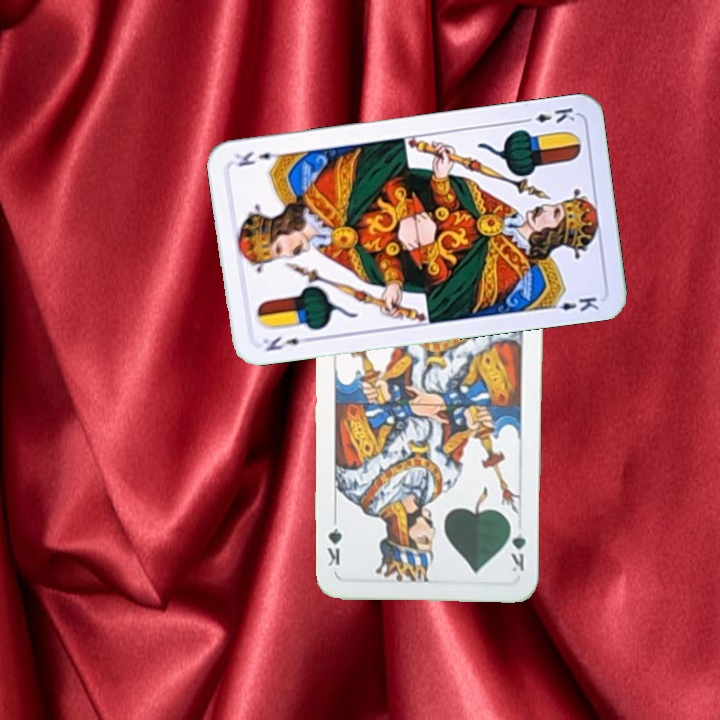EK: (518, 103, 578, 126), (258, 332, 314, 354)
GK: (506, 517, 528, 574)
